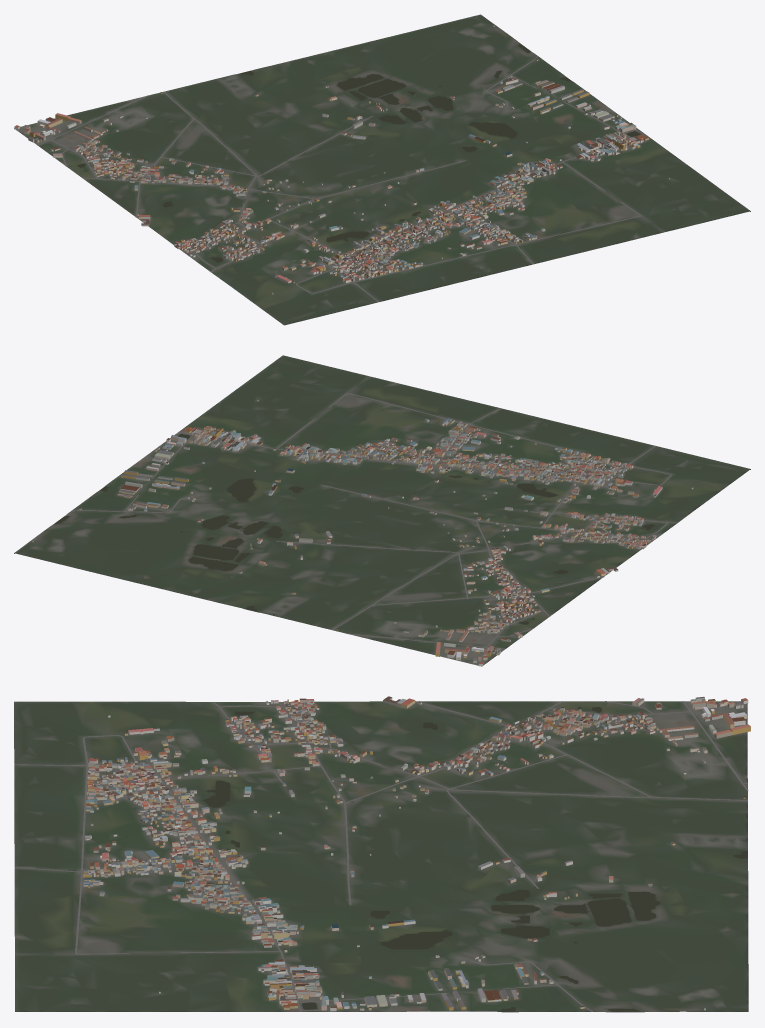
The picture shows the model from 3 angles, top to bottom: view 1: azimuth 30°, elevation 25°; view 2: azimuth 150°, elevation 25°; view 3: azimuth 270°, elevation 25°; orthographic projection. The views are drawn at different scales.
Visible parts, largest first — view 1: ground, buildings, roads, water; view 2: ground, buildings, roads, water; view 3: ground, buildings, water, roads.
Boxes of the visible parts, x1=… form: ground: x1=14, y1=14, x2=750, y2=325; buildings: x1=14, y1=25, x2=669, y2=294; roads: x1=16, y1=56, x2=645, y2=302; water: x1=77, y1=43, x2=640, y2=262; ground: x1=14, y1=355, x2=750, y2=666; buildings: x1=32, y1=400, x2=693, y2=666; roads: x1=71, y1=393, x2=677, y2=664; water: x1=54, y1=434, x2=655, y2=624; ground: x1=14, y1=701, x2=748, y2=1012; buildings: x1=82, y1=696, x2=750, y2=1011; water: x1=202, y1=707, x2=747, y2=1011; roads: x1=14, y1=701, x2=748, y2=1011.
Bounding box in the file's own units: 1419 × 16.35 × 1408.
